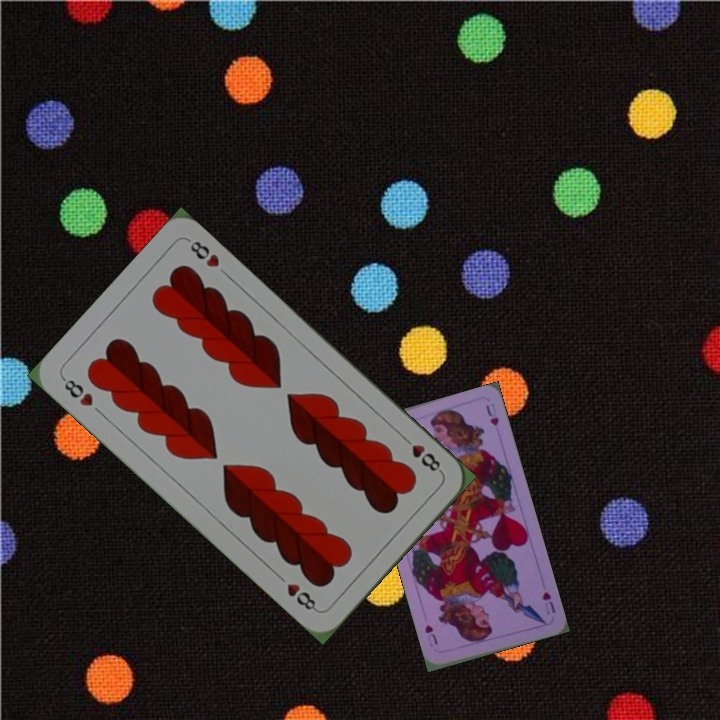H8: (397, 431, 445, 476), (58, 373, 96, 409)
HU: (538, 587, 558, 617)
